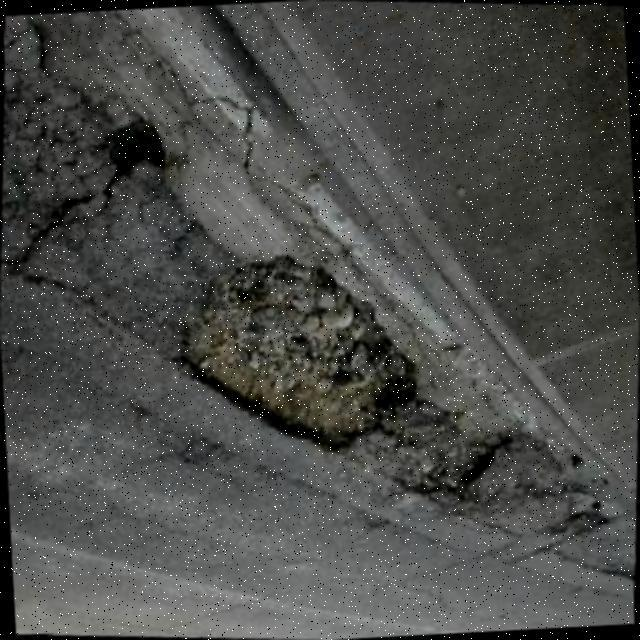Pothole: (183, 255, 416, 451), (370, 396, 510, 496), (103, 117, 164, 188)
